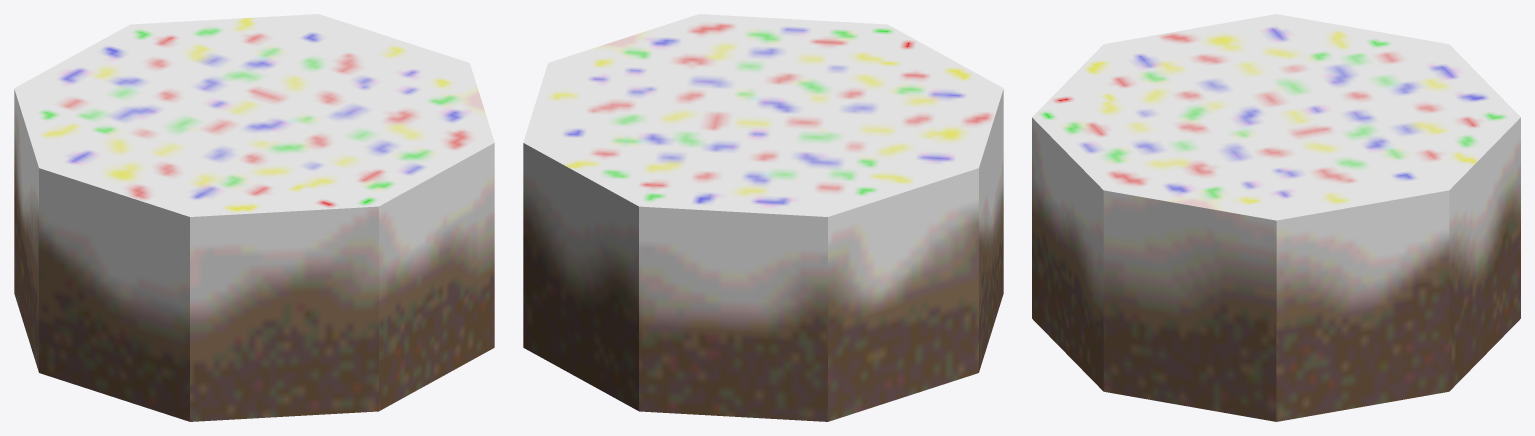
The model's file is ChocolateCake.fbx.
3 views of the same model, side by side, from view 1: azimuth 30°, elevation 25°; view 2: azimuth 150°, elevation 25°; view 3: azimuth 270°, elevation 25° (orthographic).
Visible parts, largest first — view 1: ChocolateCake; view 2: ChocolateCake; view 3: ChocolateCake.
Boxes of the visible parts, left/top/right/bottom form: ChocolateCake: left=14, top=14, right=494, bottom=421; ChocolateCake: left=523, top=14, right=1003, bottom=421; ChocolateCake: left=1032, top=14, right=1520, bottom=421.
Size of the model in its own units: 200 by 90.89 by 200.
